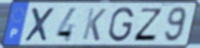4: (53, 6, 79, 43)
9: (164, 6, 189, 43)
G: (107, 6, 135, 44)
K: (81, 7, 108, 43)
X: (23, 6, 57, 43)
Z: (132, 7, 164, 43)
